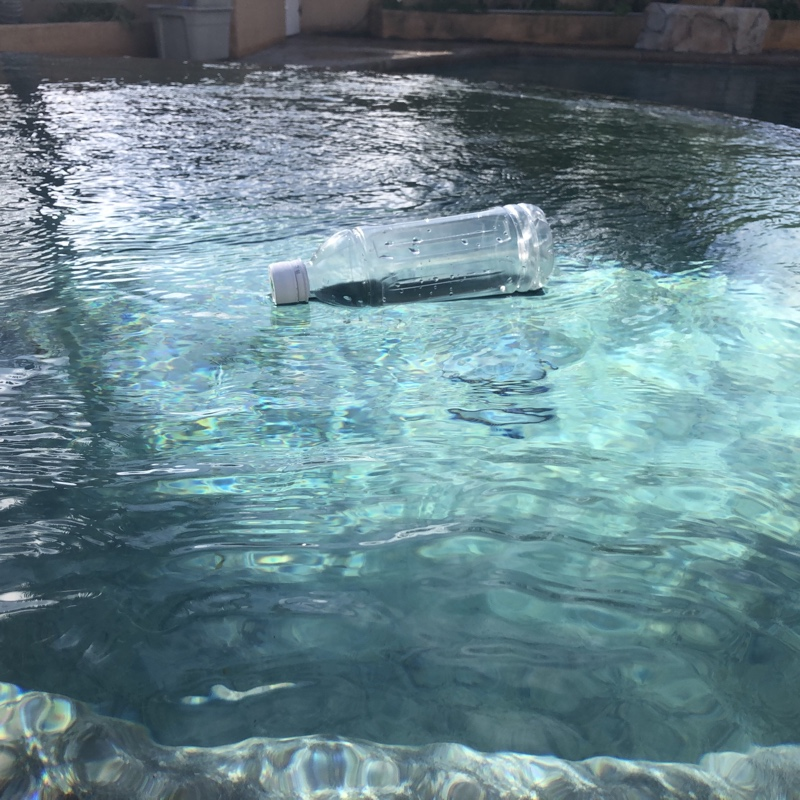Plastic Bottle: (265, 198, 558, 313)
